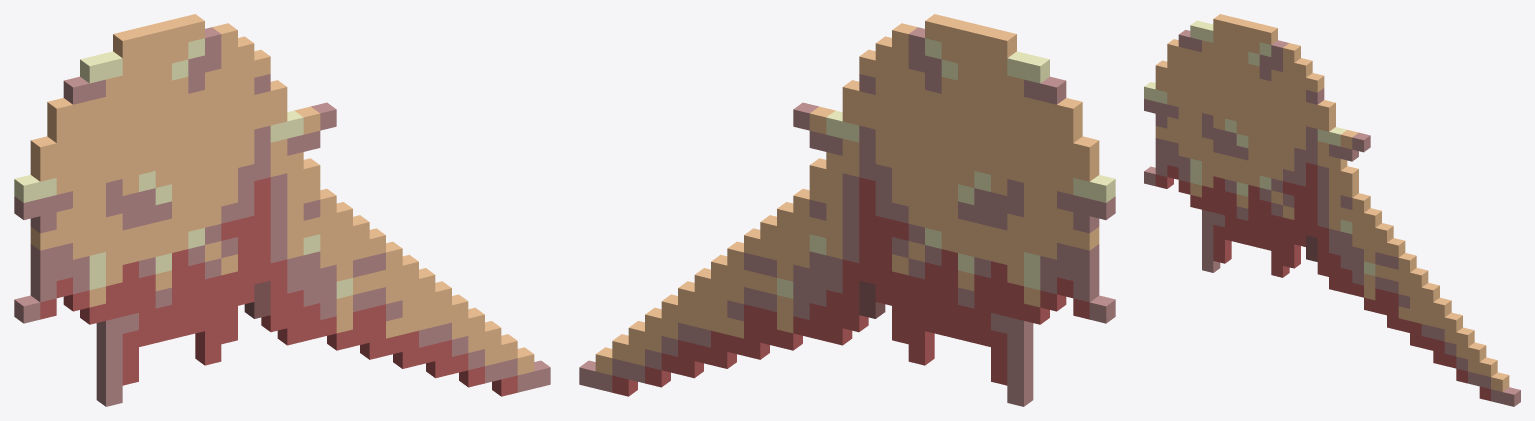
Rendered from W_Mace16.fbx.
3 renders of one model, left to right at view 1: azimuth 30°, elevation 25°; view 2: azimuth 150°, elevation 25°; view 3: azimuth 330°, elevation 25°, orthographic. The views are drawn at different scales.
Visible parts, largest first — view 1: Default; view 2: Default; view 3: Default.
Part boxes in pixels (x1=…): Default: x1=14, y1=14, x2=550, y2=406; Default: x1=579, y1=14, x2=1115, y2=406; Default: x1=1144, y1=14, x2=1520, y2=406.
Size of the model in its own units: 32 by 26 by 1.
1 material, 1 textured.
